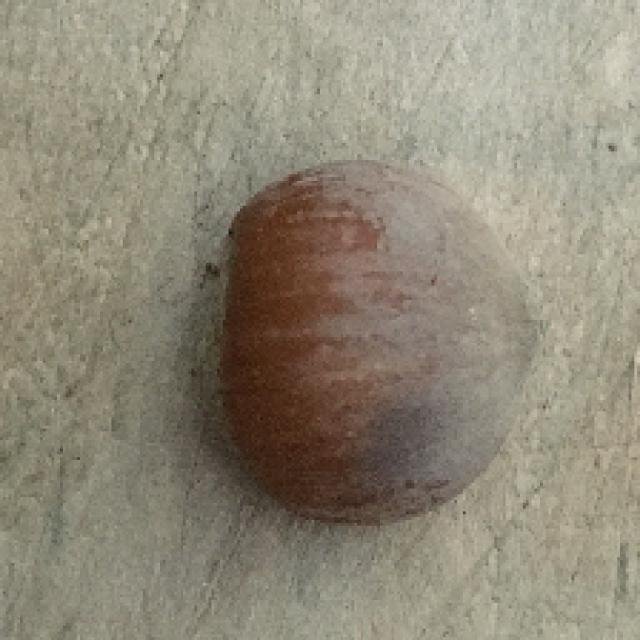qualityHazelnut: (174, 162, 547, 527)
